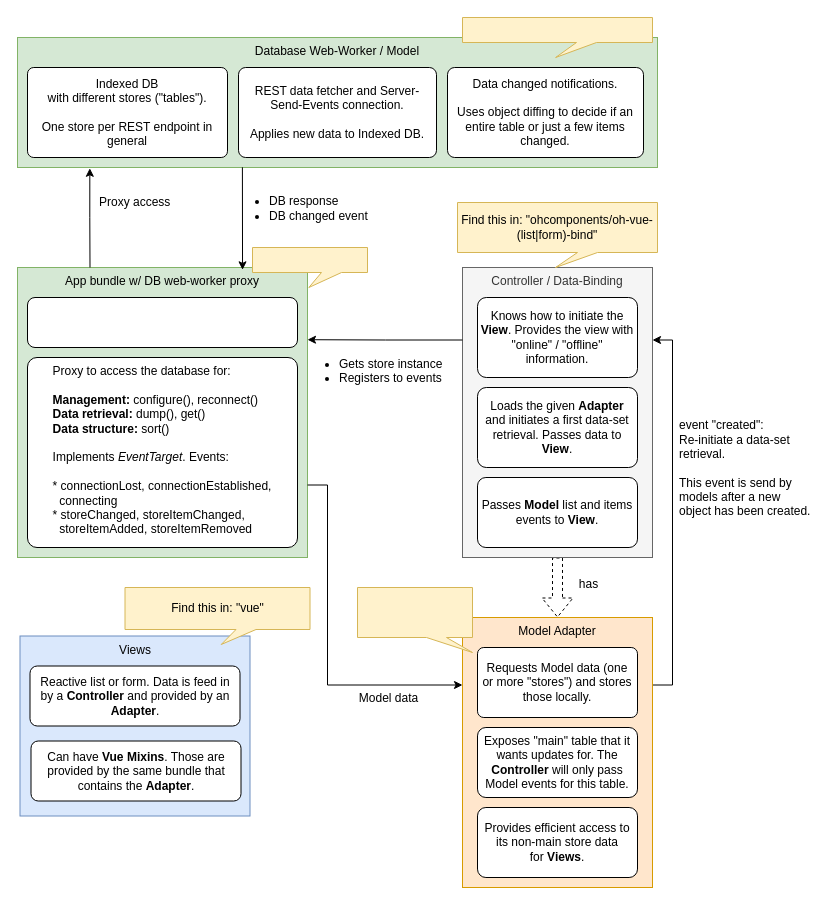
This 827x905 diagram has some shape labels left out. Here are the shapes that lost their labels. From the top down, the centre of each, then its label:
the point at 557,37: Find this in: "storage-webworker"
the point at 310,267: Find this in: "app"
the point at 162,322: Starts the web worker and configures the database on page load.
the point at 414,619: Find this in: "modeladapter_*"
